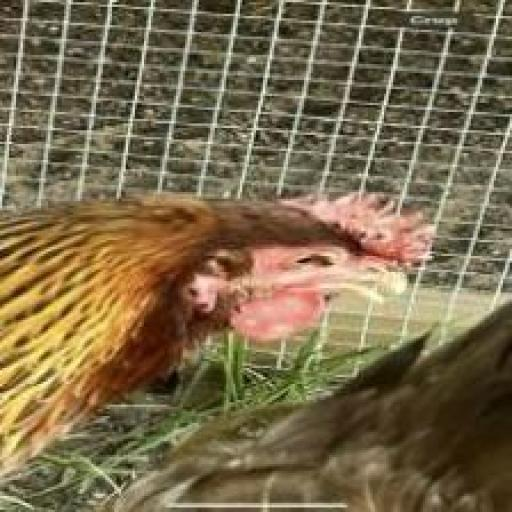disease: (270, 190, 438, 290)
